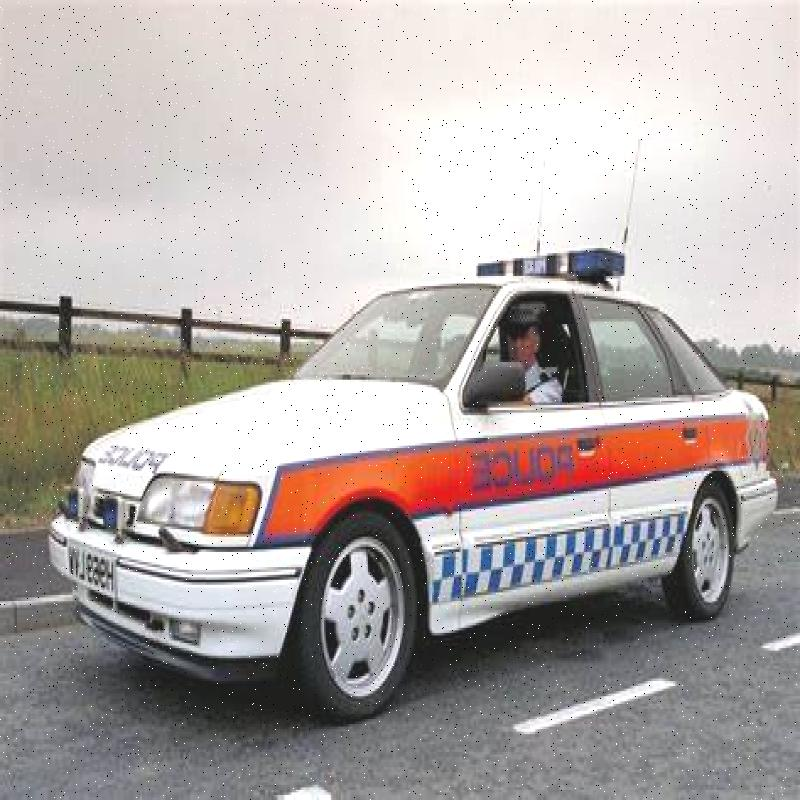AmbulanceSiren: (454, 234, 638, 291)
